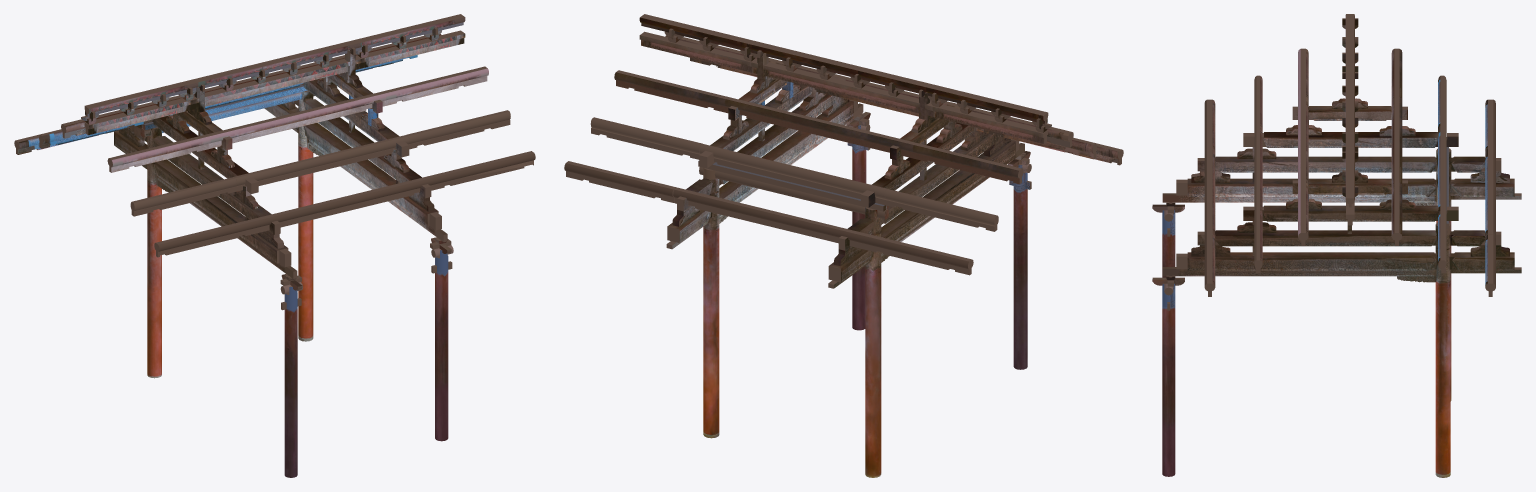
Rendered from DCD_LJ_Animation.glb.
3 renders of one model, left to right at view 1: azimuth 30°, elevation 25°; view 2: azimuth 150°, elevation 25°; view 3: azimuth 270°, elevation 25°, orthographic. The views are drawn at different scales.
Parts seen in each view (by area): view 1: 脊枋, 替木_右, 大额枋_右, 金柱_右, 脊垫板, 七架梁_右, 五架梁_右, 组合01, 瓜柱, 三架梁_左, 柁墩_右_前, 脊瓜柱_右 (+1 smaller); view 2: 脊枋, 金柱_右, 替木_右, 脊垫板, 大额枋_右, 七架梁_右, 五架梁_右, 组合01, 瓜柱, 三架梁_左, 柁墩_右_前, 脊瓜柱_右 (+1 smaller); view 3: 脊枋, 替木_右, 七架梁_右, 五架梁_右, 大额枋_右, 金柱_右, 三架梁_左, 脊垫板, 柁墩_右_前, 瓜柱, 组合01, 下金瓜柱_右_前 (+1 smaller).
Boxes of the visible parts, x1=… form: 脊枋: x1=14, y1=30, x2=535, y2=257; 替木_右: x1=114, y1=104, x2=447, y2=278; 大额枋_右: x1=280, y1=237, x2=453, y2=477; 金柱_右: x1=147, y1=90, x2=313, y2=378; 脊垫板: x1=84, y1=14, x2=465, y2=116; 七架梁_右: x1=129, y1=99, x2=431, y2=234; 五架梁_右: x1=152, y1=78, x2=409, y2=193; 组合01: x1=81, y1=27, x2=441, y2=124; 瓜柱: x1=166, y1=77, x2=385, y2=168; 三架梁_左: x1=170, y1=74, x2=382, y2=150; 柁墩_右_前: x1=119, y1=102, x2=434, y2=248; 脊瓜柱_右: x1=188, y1=50, x2=362, y2=124; 脊枋: x1=564, y1=31, x2=1123, y2=275; 金柱_右: x1=703, y1=168, x2=881, y2=477; 替木_右: x1=666, y1=100, x2=1024, y2=288; 脊垫板: x1=639, y1=14, x2=1048, y2=124; 大额枋_右: x1=846, y1=112, x2=1031, y2=369; 七架梁_右: x1=677, y1=94, x2=1000, y2=250; 五架梁_右: x1=699, y1=83, x2=974, y2=207; 组合01: x1=664, y1=28, x2=1051, y2=132; 瓜柱: x1=723, y1=81, x2=962, y2=179; 三架梁_左: x1=728, y1=78, x2=954, y2=160; 柁墩_右_前: x1=672, y1=97, x2=1010, y2=266; 脊瓜柱_右: x1=750, y1=53, x2=937, y2=132; 脊枋: x1=1204, y1=48, x2=1495, y2=296; 替木_右: x1=1162, y1=178, x2=1521, y2=282; 七架梁_右: x1=1197, y1=156, x2=1501, y2=246; 五架梁_右: x1=1243, y1=132, x2=1458, y2=221; 大额枋_右: x1=1152, y1=202, x2=1184, y2=476; 金柱_右: x1=1435, y1=148, x2=1451, y2=477; 三架梁_左: x1=1292, y1=106, x2=1407, y2=194; 脊垫板: x1=1345, y1=14, x2=1354, y2=207; 柁墩_右_前: x1=1191, y1=171, x2=1509, y2=256; 瓜柱: x1=1286, y1=120, x2=1415, y2=209; 组合01: x1=1342, y1=18, x2=1358, y2=196; 下金瓜柱_右_前: x1=1237, y1=147, x2=1351, y2=233.
Size of the model in its own units: 15.19 by 12.55 by 12.69.
Materials: 1 (1 with a texture image).
